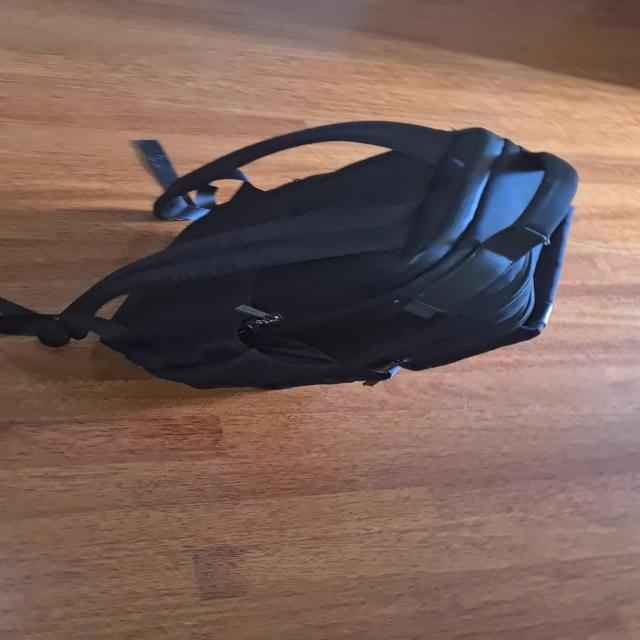backpack: (31, 109, 596, 392)
